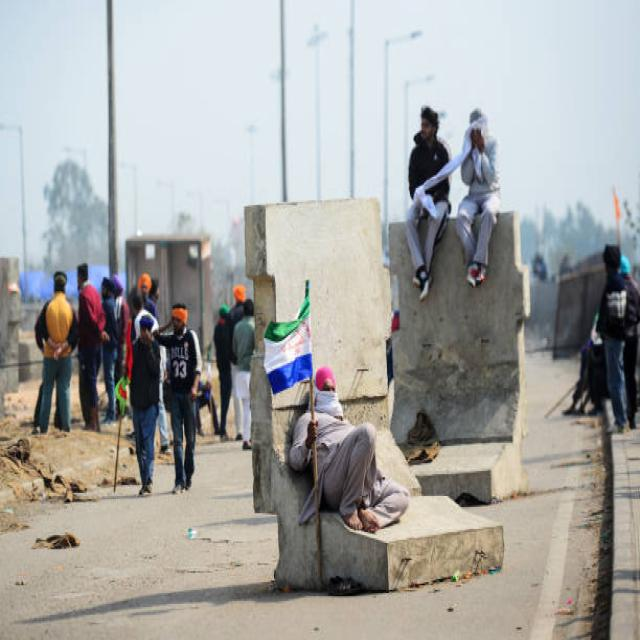civilian: (285, 366, 408, 532), (406, 106, 454, 299), (156, 304, 201, 491), (457, 110, 499, 286), (36, 272, 75, 432), (596, 244, 627, 430), (130, 311, 161, 494), (76, 264, 108, 430), (233, 300, 254, 449), (100, 279, 117, 419), (213, 307, 231, 438)
